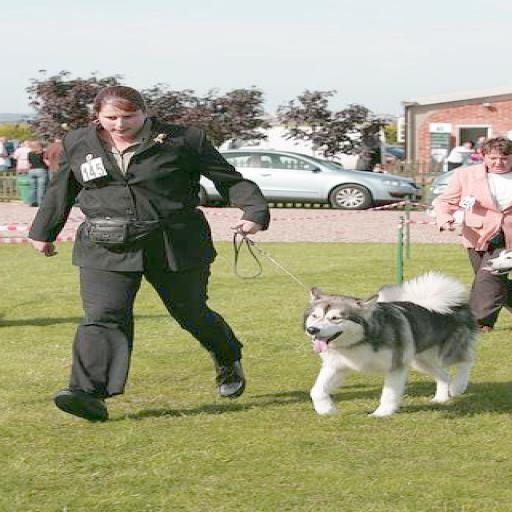dog_face: (290, 281, 401, 356)
